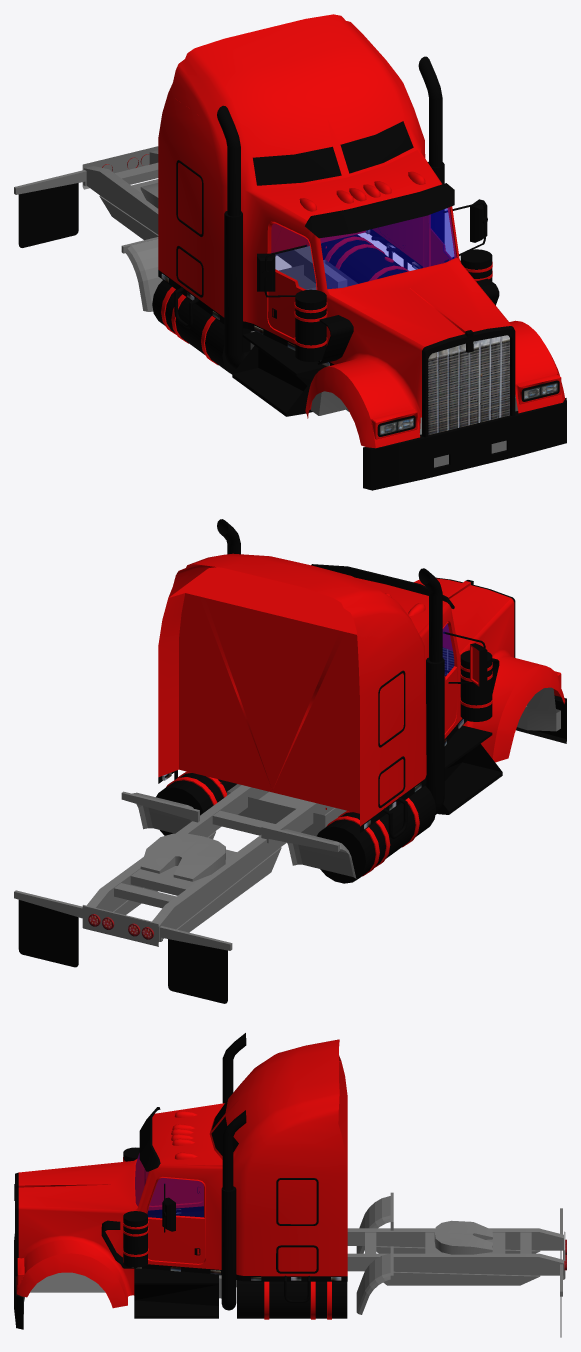
The model's file is Ken.fbx.
The picture shows the model from 3 angles, top to bottom: view 1: azimuth 30°, elevation 25°; view 2: azimuth 150°, elevation 25°; view 3: azimuth 270°, elevation 25°; orthographic projection. The views are drawn at different scales.
Parts seen in each view (by area): view 1: polySurface1; view 2: polySurface1; view 3: polySurface1.
Boxes of the visible parts, x1,y1,x2,y2 form: polySurface1: [14, 14, 566, 490]; polySurface1: [14, 519, 566, 1003]; polySurface1: [14, 1033, 566, 1337].
Size of the model in its own units: 1.36 by 1.69 by 3.61.
5 materials, 1 textured.
